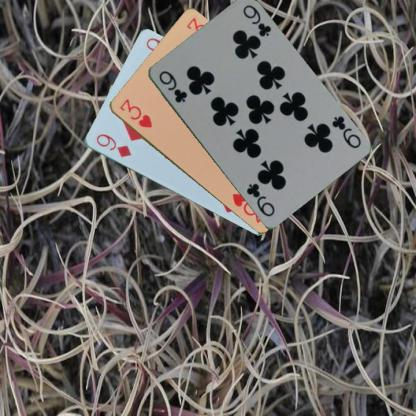3h: (117, 96, 153, 129)
9c: (329, 112, 362, 150), (155, 67, 188, 104)
9d: (92, 131, 133, 159)
